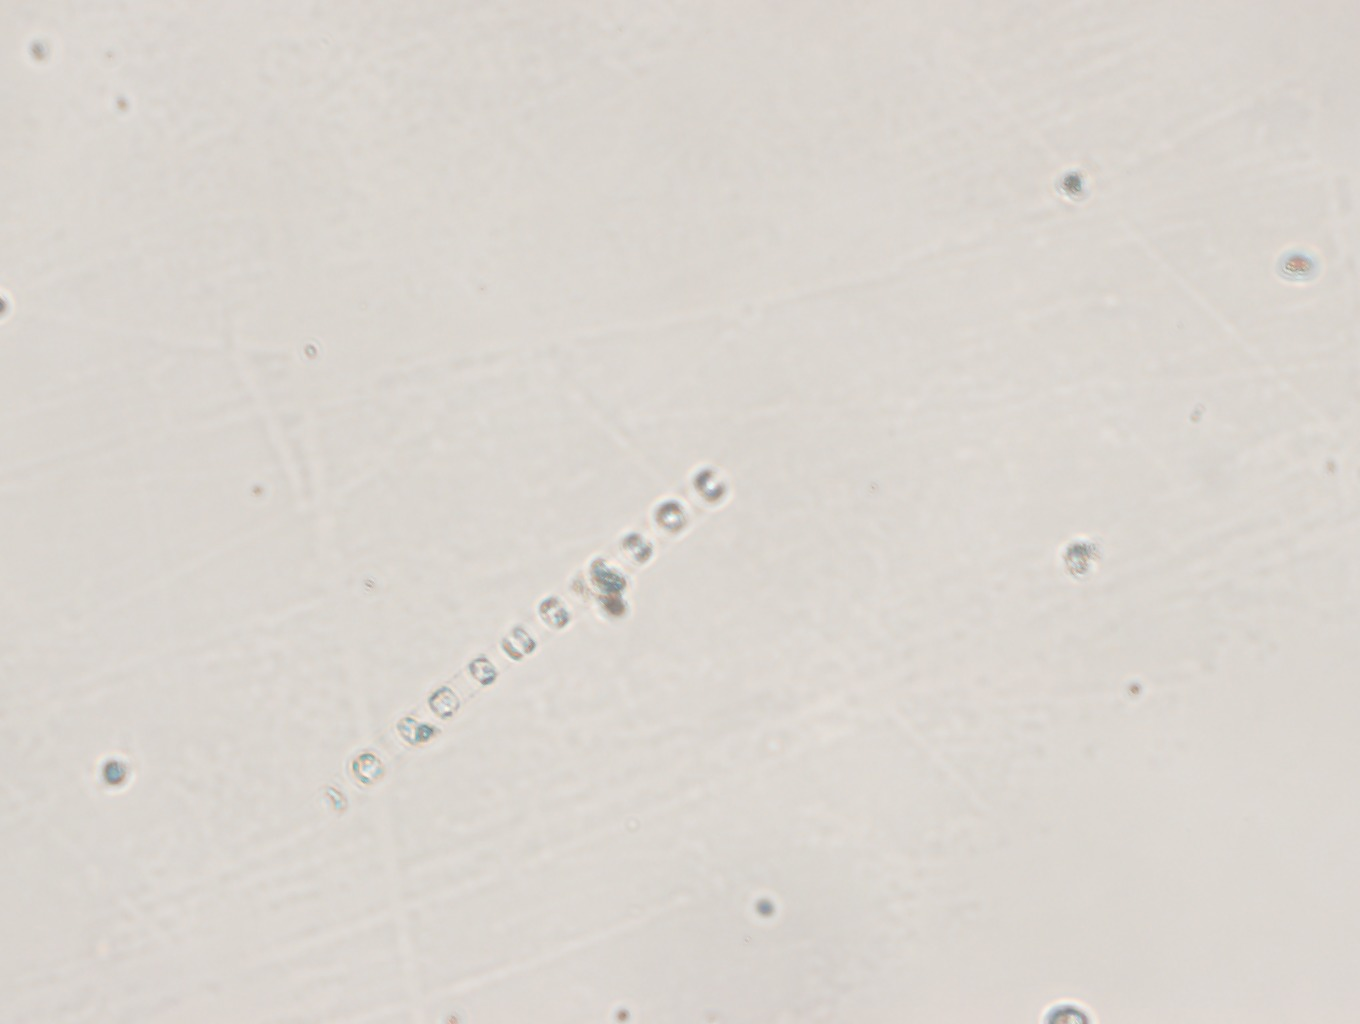skeletonema: (304, 463, 751, 825)
